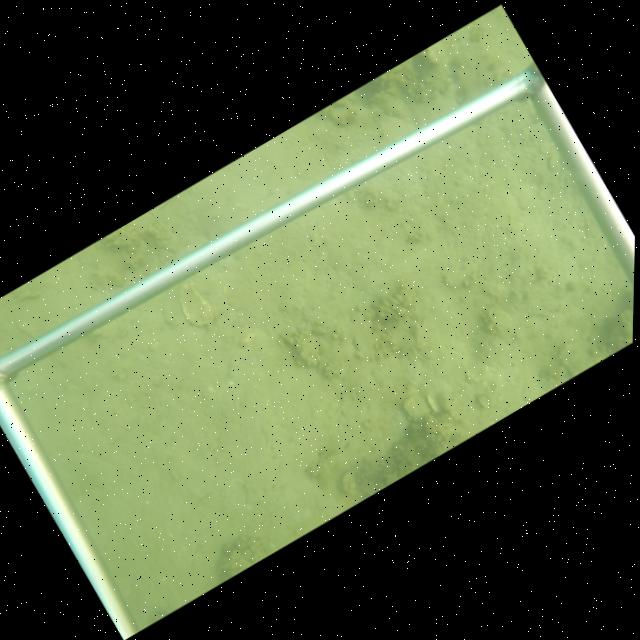Oyster-Indeterminate: (178, 280, 215, 329)
